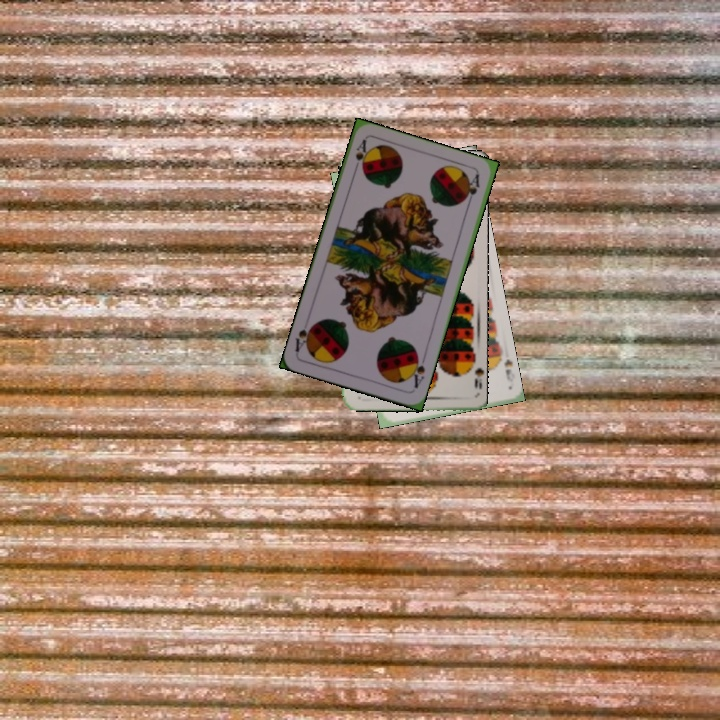S9: (492, 347, 516, 385), (463, 354, 482, 392)
SA: (406, 350, 428, 391), (350, 136, 371, 176)
